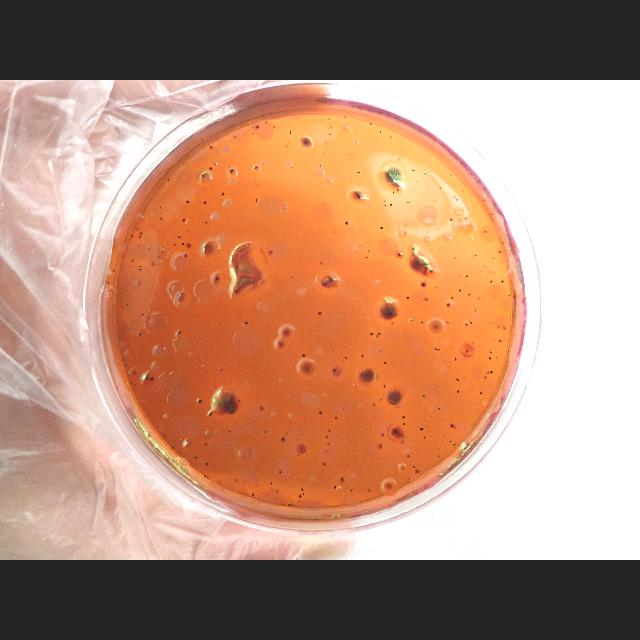colony: (408, 252, 436, 278), (217, 387, 240, 415), (382, 164, 408, 188), (378, 300, 400, 320), (387, 388, 403, 406), (359, 368, 376, 384), (200, 240, 217, 256), (320, 275, 338, 289), (429, 319, 443, 335), (388, 426, 402, 440), (300, 136, 314, 148), (351, 189, 364, 201), (302, 360, 312, 374), (298, 444, 306, 454), (384, 482, 394, 490), (399, 463, 407, 471), (283, 328, 291, 336), (410, 246, 418, 252), (421, 280, 427, 288), (376, 444, 384, 450), (278, 340, 284, 348), (397, 252, 403, 258), (197, 398, 203, 404), (142, 374, 148, 380), (254, 124, 260, 130), (253, 166, 260, 170), (414, 469, 420, 473), (340, 476, 344, 482), (176, 330, 182, 334), (186, 243, 190, 249), (229, 169, 235, 173), (268, 250, 274, 254), (302, 353, 306, 359), (356, 170, 362, 173), (392, 190, 396, 194), (438, 186, 442, 190), (412, 168, 416, 172), (449, 218, 453, 222), (464, 216, 468, 220), (364, 256, 368, 260), (370, 332, 374, 336), (488, 356, 492, 360), (454, 357, 458, 361), (456, 378, 460, 382), (450, 424, 454, 428), (372, 403, 376, 407), (334, 416, 338, 420), (318, 411, 322, 415), (322, 462, 326, 466), (280, 437, 284, 441), (263, 430, 267, 434), (260, 406, 264, 410), (300, 488, 304, 492), (298, 494, 302, 498), (290, 503, 294, 507), (230, 410, 234, 414), (150, 377, 154, 381), (138, 332, 142, 336), (216, 277, 220, 281), (184, 254, 188, 258), (138, 268, 142, 272), (203, 201, 207, 205), (317, 312, 321, 316), (361, 354, 365, 358), (147, 434, 151, 438), (478, 296, 482, 300), (503, 326, 507, 330), (422, 394, 426, 398), (296, 437, 300, 441), (332, 368, 336, 372), (344, 356, 348, 360), (458, 256, 462, 260), (482, 198, 486, 202), (424, 297, 428, 301), (406, 200, 410, 203), (423, 172, 427, 175), (483, 230, 487, 233), (380, 227, 384, 230), (404, 230, 406, 236), (397, 227, 401, 230), (406, 296, 409, 300), (391, 322, 394, 326), (446, 303, 449, 307), (486, 371, 489, 375), (278, 471, 282, 474), (125, 302, 128, 306), (220, 368, 223, 372), (235, 290, 238, 294), (182, 218, 185, 222), (187, 200, 190, 204), (255, 198, 258, 202), (205, 442, 208, 446), (214, 162, 218, 165), (474, 255, 478, 258), (501, 280, 504, 284), (346, 220, 348, 226), (332, 230, 336, 233), (421, 321, 424, 324), (242, 481, 245, 484), (390, 202, 392, 206), (384, 199, 386, 203), (456, 198, 458, 202), (368, 249, 370, 253), (376, 334, 378, 338), (378, 332, 380, 336), (459, 289, 461, 293), (451, 296, 453, 300), (474, 308, 476, 312), (470, 321, 472, 325), (466, 322, 468, 326), (498, 340, 502, 342), (438, 348, 440, 352), (434, 348, 438, 350), (457, 390, 459, 394), (480, 391, 482, 395), (420, 428, 424, 430), (438, 454, 440, 458), (408, 454, 410, 458), (412, 466, 416, 468), (408, 477, 410, 481), (368, 488, 370, 492), (350, 488, 352, 492), (381, 434, 385, 436), (403, 422, 405, 426), (402, 416, 406, 418), (380, 398, 382, 402), (383, 384, 385, 388), (326, 442, 330, 444), (286, 432, 288, 436), (303, 492, 305, 496), (288, 502, 290, 506), (277, 489, 279, 493), (270, 481, 272, 485), (252, 492, 254, 496), (236, 478, 238, 482), (326, 450, 330, 452), (267, 404, 269, 408), (210, 412, 212, 416), (141, 313, 145, 315), (244, 322, 248, 324), (174, 243, 176, 247), (177, 236, 181, 238), (158, 256, 162, 258), (139, 265, 143, 267), (112, 268, 114, 272), (131, 260, 135, 262), (146, 248, 150, 250), (135, 228, 139, 230), (131, 234, 133, 238), (108, 280, 110, 284), (168, 178, 170, 182), (210, 167, 212, 171), (290, 276, 294, 278), (362, 312, 364, 316), (462, 376, 466, 378), (256, 484, 258, 488), (206, 462, 208, 466), (204, 474, 206, 478), (290, 130, 292, 134), (286, 144, 288, 148), (274, 124, 276, 128), (328, 134, 332, 136), (330, 126, 332, 130), (266, 120, 268, 124), (234, 135, 236, 139), (380, 130, 382, 134), (490, 280, 492, 284), (508, 294, 510, 298), (497, 326, 501, 328), (494, 338, 496, 342), (228, 430, 232, 432), (322, 188, 324, 192), (320, 261, 322, 265), (454, 256, 456, 260), (459, 274, 461, 278), (408, 212, 412, 214), (346, 463, 348, 467), (396, 189, 399, 191), (450, 175, 452, 178), (490, 351, 492, 354), (490, 371, 492, 374), (438, 406, 440, 409), (122, 358, 125, 360), (182, 242, 184, 245), (162, 250, 164, 253), (222, 192, 224, 195), (160, 217, 162, 220), (507, 351, 509, 354), (195, 456, 198, 458), (291, 167, 293, 170), (344, 115, 346, 118), (252, 132, 255, 134), (499, 250, 501, 253), (228, 165, 230, 168), (384, 204, 386, 206), (466, 275, 468, 277), (468, 294, 470, 296), (466, 350, 468, 352), (484, 376, 486, 378), (423, 436, 425, 438), (450, 440, 452, 442), (453, 444, 455, 446), (407, 481, 409, 483), (334, 486, 336, 488), (438, 448, 440, 450), (328, 430, 330, 432), (326, 436, 328, 438), (297, 454, 299, 456), (298, 500, 300, 502), (300, 405, 302, 407), (238, 400, 240, 402), (134, 384, 136, 386), (130, 382, 132, 384), (134, 372, 136, 374), (124, 364, 126, 366), (152, 263, 154, 265), (139, 236, 141, 238), (140, 232, 142, 234), (138, 244, 140, 246), (206, 221, 208, 223), (159, 206, 161, 208), (210, 146, 212, 148), (187, 230, 189, 232), (223, 275, 225, 277), (379, 350, 381, 352), (384, 362, 386, 364), (452, 348, 454, 350), (472, 342, 474, 344), (496, 356, 498, 358), (338, 488, 340, 490), (172, 447, 174, 449), (164, 434, 166, 436), (204, 188, 206, 190), (257, 184, 259, 186), (320, 164, 322, 166), (328, 118, 330, 120), (325, 142, 327, 144), (324, 153, 326, 155), (349, 154, 351, 156), (263, 114, 265, 116), (310, 122, 312, 124), (369, 123, 371, 125), (390, 136, 392, 138), (392, 154, 394, 156), (416, 181, 418, 183), (453, 196, 455, 198), (462, 190, 464, 192), (434, 200, 436, 202), (492, 257, 494, 259), (484, 266, 486, 268), (495, 306, 497, 308), (489, 322, 491, 324), (501, 324, 503, 326), (426, 425, 428, 427), (430, 416, 432, 418), (236, 149, 238, 151), (361, 245, 363, 247), (305, 422, 307, 424), (471, 256, 473, 258), (438, 249, 440, 251), (423, 231, 425, 233), (426, 232, 428, 234), (436, 226, 438, 228), (409, 405, 411, 407), (371, 431, 373, 433), (436, 287, 438, 289), (448, 322, 449, 324), (432, 240, 433, 242), (498, 282, 499, 284), (454, 184, 454, 186), (482, 270, 482, 272), (480, 272, 480, 272), (444, 435, 444, 437), (482, 260, 482, 262), (430, 242, 430, 242)
